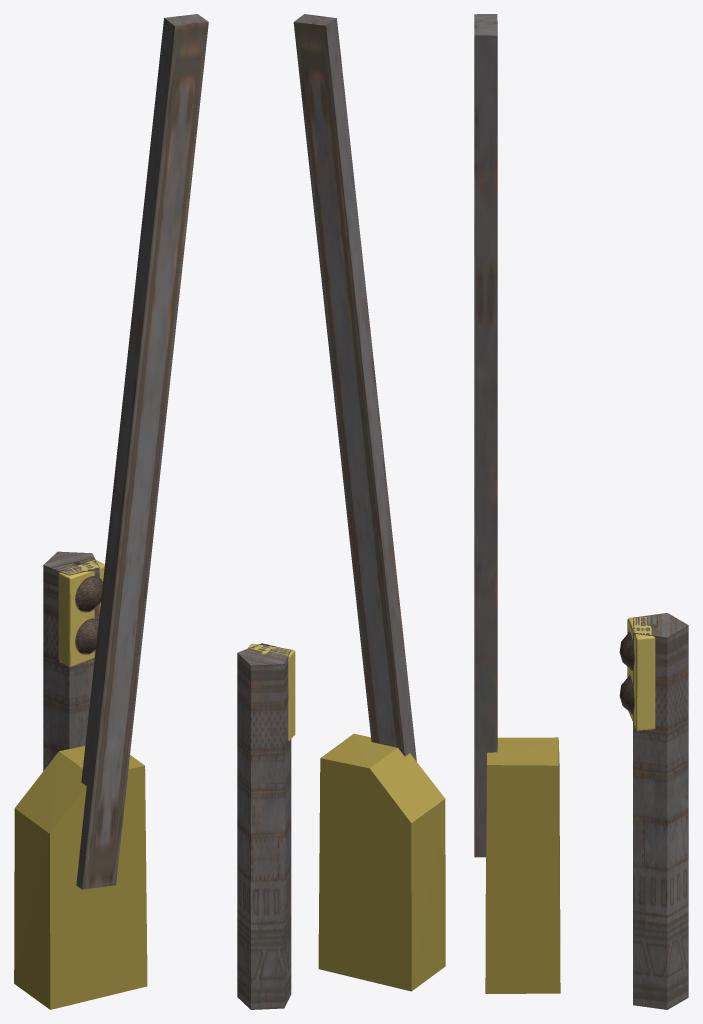
Rendered from weight_station_barrier.dae.
The picture shows the model from 3 angles, left to right: view 1: azimuth 30°, elevation 25°; view 2: azimuth 150°, elevation 25°; view 3: azimuth 270°, elevation 25°; orthographic projection. The views are drawn at different scales.
Parts seen in each view (by area): view 1: Colmesh_weight_sation_barrier-1, weight_sation_barrier_a500, weight_sation_barrier_a80; view 2: Colmesh_weight_sation_barrier-1, weight_sation_barrier_a500; view 3: Colmesh_weight_sation_barrier-1, weight_sation_barrier_a500, weight_sation_barrier_a80.
Boxes of the visible parts, x1,y1,x2,y2 form: Colmesh_weight_sation_barrier-1: (14,14,208,1009); weight_sation_barrier_a500: (58,560,104,666); weight_sation_barrier_a80: (58,566,104,666); Colmesh_weight_sation_barrier-1: (237,14,445,1009); weight_sation_barrier_a500: (247,643,295,740); Colmesh_weight_sation_barrier-1: (474,14,688,1009); weight_sation_barrier_a500: (619,616,657,730); weight_sation_barrier_a80: (619,629,657,729).
Bounding box in the file's own units: 0.892 × 1.04 × 5.35.
